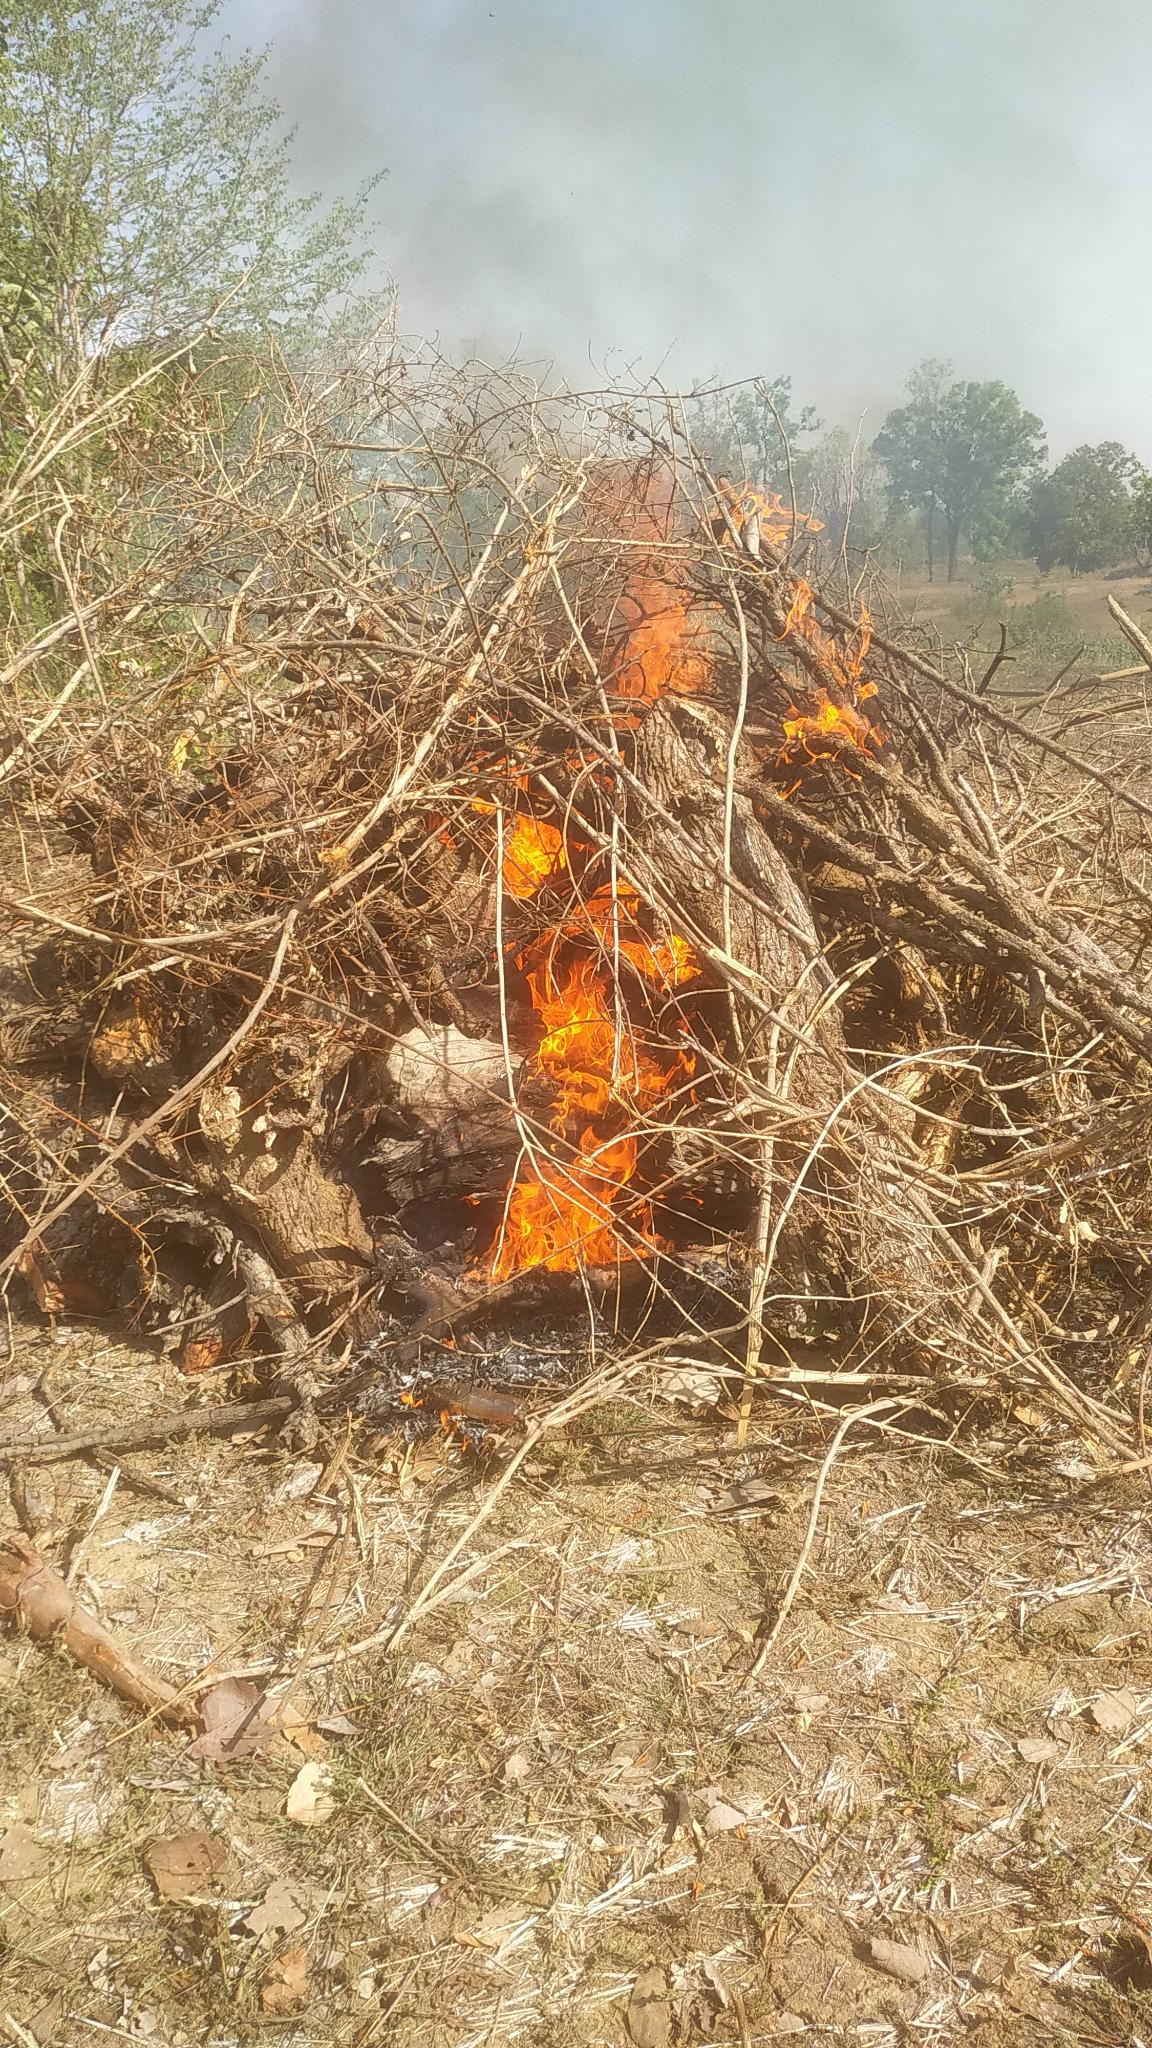Fire: (463, 800, 702, 1295)
